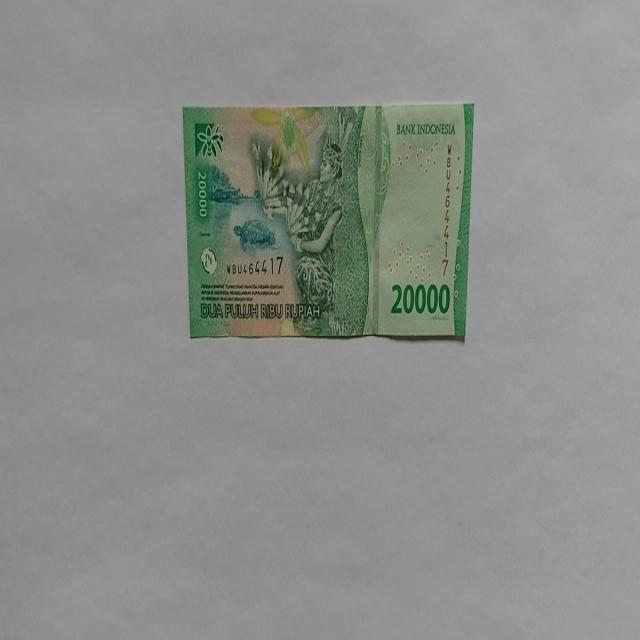dua puluh ribu rupiah: (182, 100, 474, 342)
